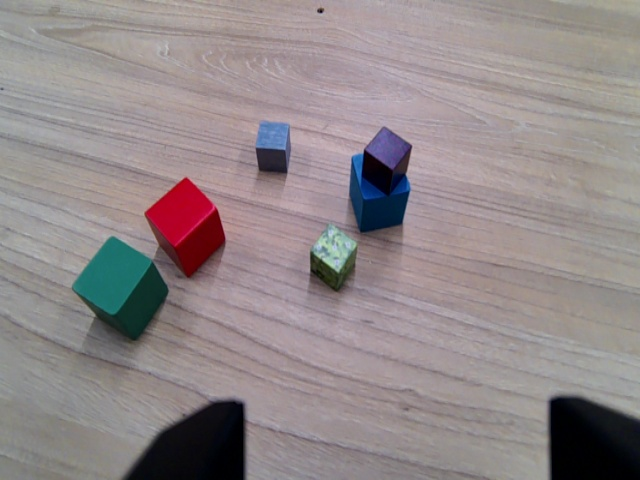brick: (360, 120, 417, 198)
grass: (306, 221, 361, 293)
stone: (248, 119, 301, 178)
